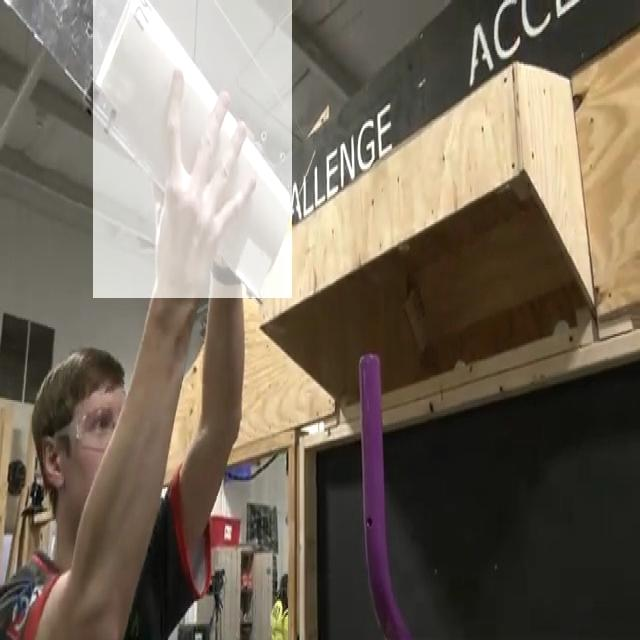Coral: (93, 0, 292, 298)
